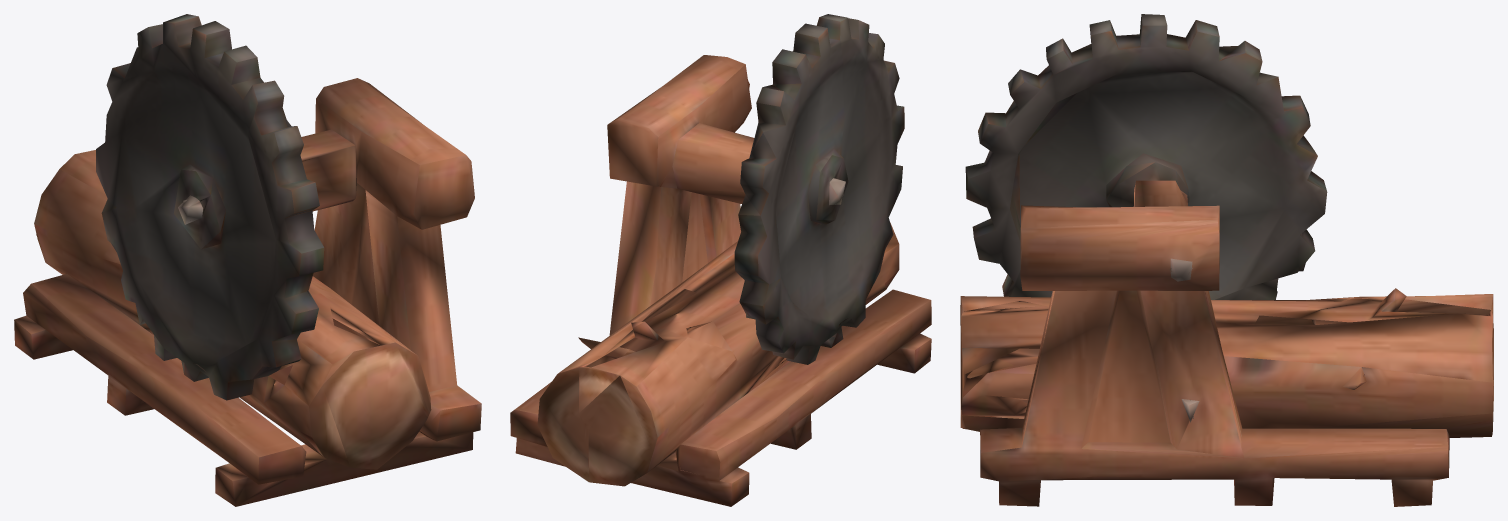
Rendered from lg-sawmill.glb.
3 renders of one model, left to right at view 1: azimuth 30°, elevation 25°; view 2: azimuth 150°, elevation 25°; view 3: azimuth 270°, elevation 25°, orthographic. The views are drawn at different scales.
Visible parts, largest first — view 1: geometry_0; view 2: geometry_0; view 3: geometry_0.
Boxes of the visible parts, box(x1,y1,x2,y2) form: geometry_0: box(14, 14, 481, 506); geometry_0: box(510, 14, 931, 506); geometry_0: box(960, 14, 1493, 506).
Size of the model in its own units: 0.5465 by 0.8268 by 1.
1 material, 1 textured.
